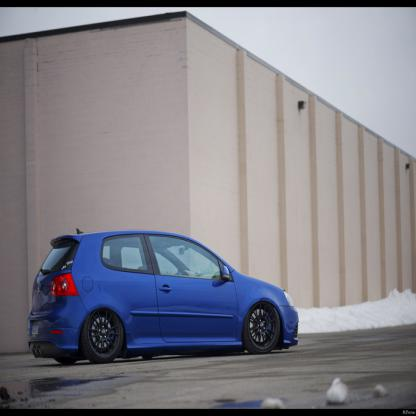Car: (27, 228, 299, 363)
